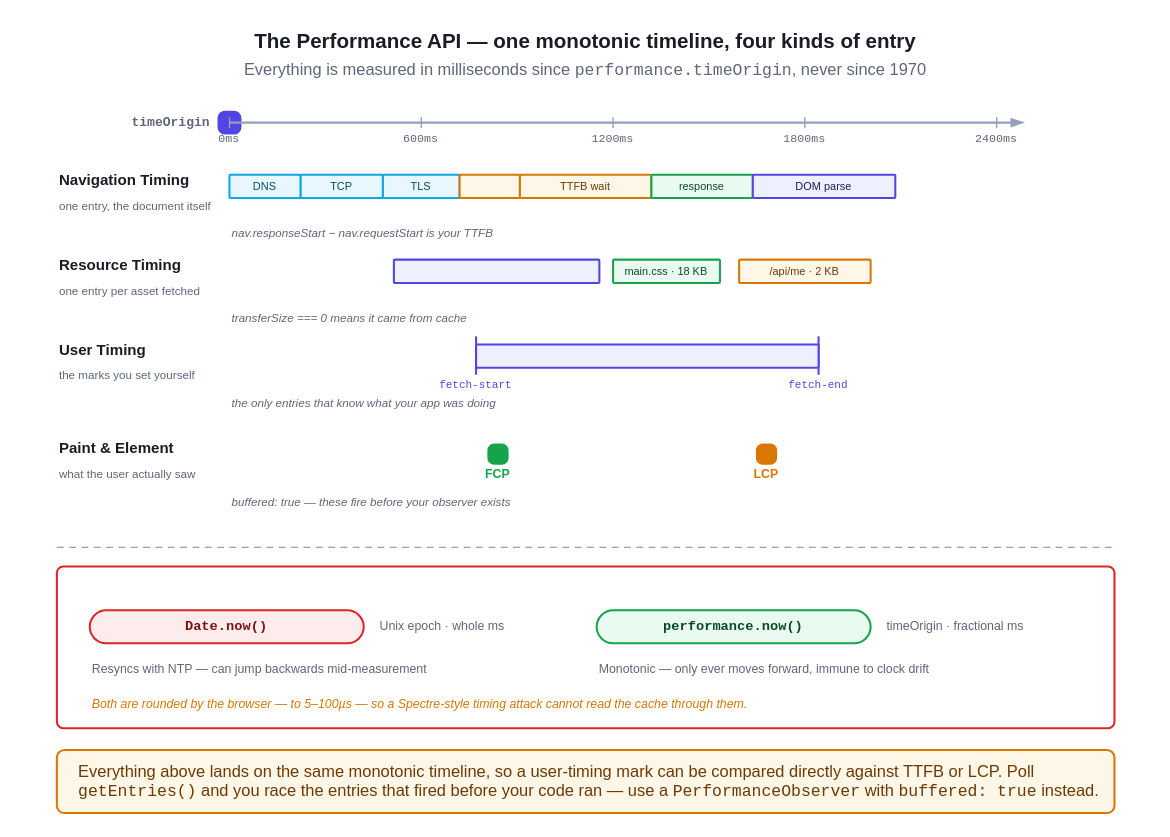
This 1170x837 diagram has some shape labels left out. Here are the shapes that lost their labels. From the top down, the box of each, then its label:
(458, 173, 520, 198): request
(392, 258, 600, 283): app.js · 142 KB
(474, 343, 819, 368): measure('UserDataFetch') — 250ms
(55, 565, 1115, 729): Why not just Date.now()?
